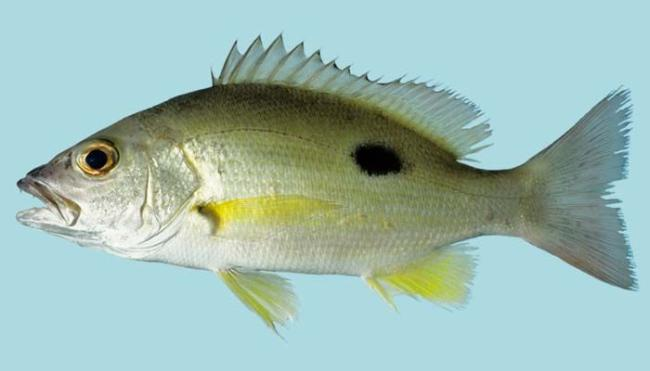fish: (17, 30, 642, 343)
